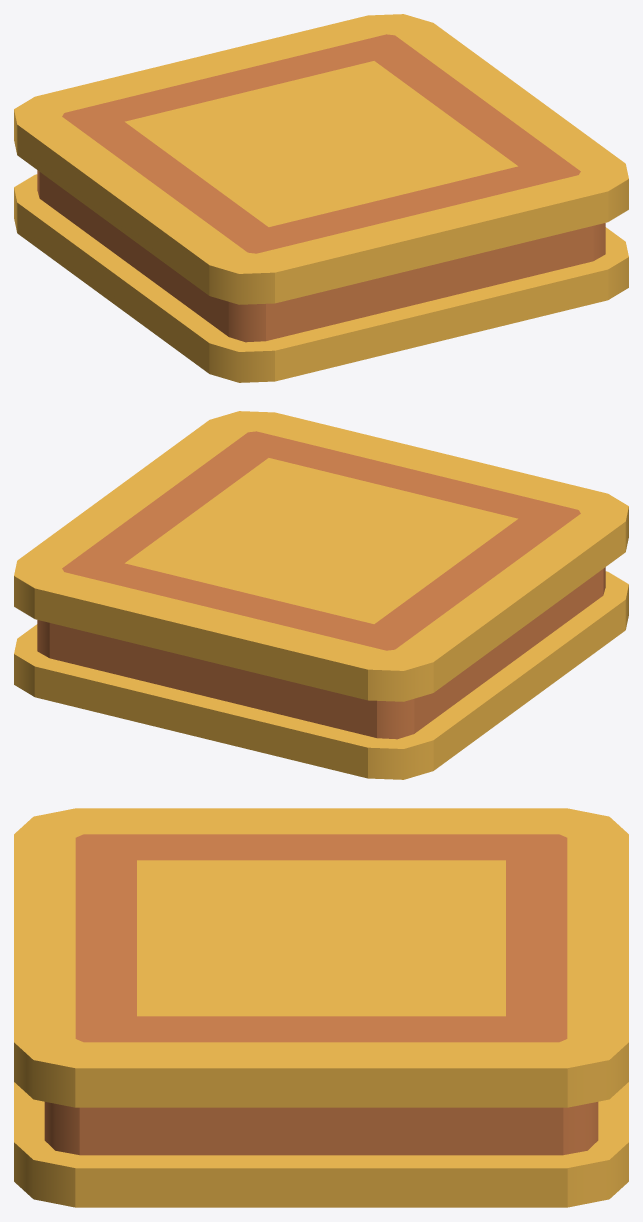
Rendered from blockMoving.fbx.
3 views of the same model, one above another, from view 1: azimuth 30°, elevation 25°; view 2: azimuth 150°, elevation 25°; view 3: azimuth 270°, elevation 25° (orthographic). The views are drawn at different scales.
Visible parts, largest first — view 1: blockMoving; view 2: blockMoving; view 3: blockMoving.
Part boxes in pixels (box(x1,y1,x2,y2)): blockMoving: box(14, 14, 628, 382); blockMoving: box(14, 411, 628, 779); blockMoving: box(14, 808, 628, 1207).
Size of the model in its own units: 10 by 2.5 by 10.
